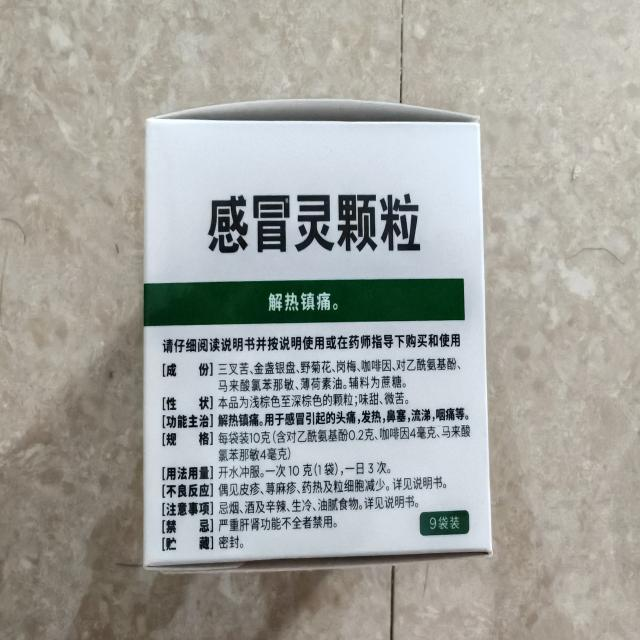box: (130, 91, 507, 578)
